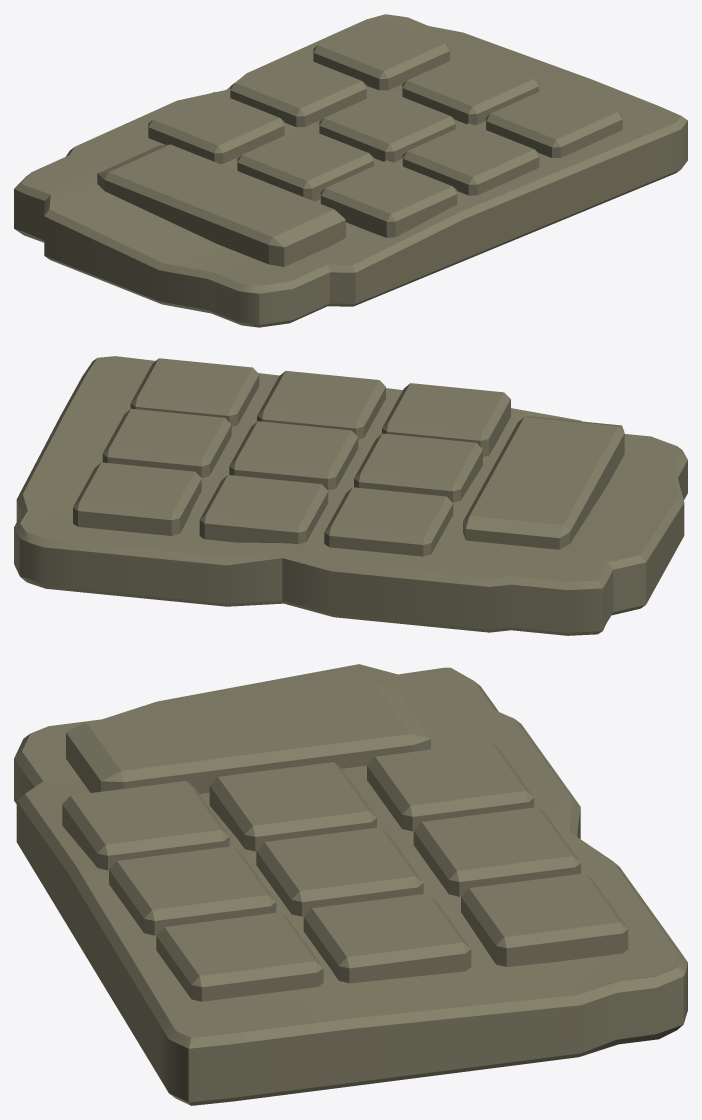
The model's file is WM_Tablet.fbx.
The picture shows the model from 3 angles, top to bottom: view 1: azimuth 30°, elevation 25°; view 2: azimuth 150°, elevation 25°; view 3: azimuth 270°, elevation 25°; orthographic projection. The views are drawn at different scales.
Visible parts, largest first — view 1: tablet; view 2: tablet; view 3: tablet.
Part boxes in pixels (<box>): tablet: <box>14,14,687,327</box>; tablet: <box>14,356,687,635</box>; tablet: <box>14,664,687,1105</box>.
Bounding box in the file's own units: 4.97 × 0.5477 × 3.71.
